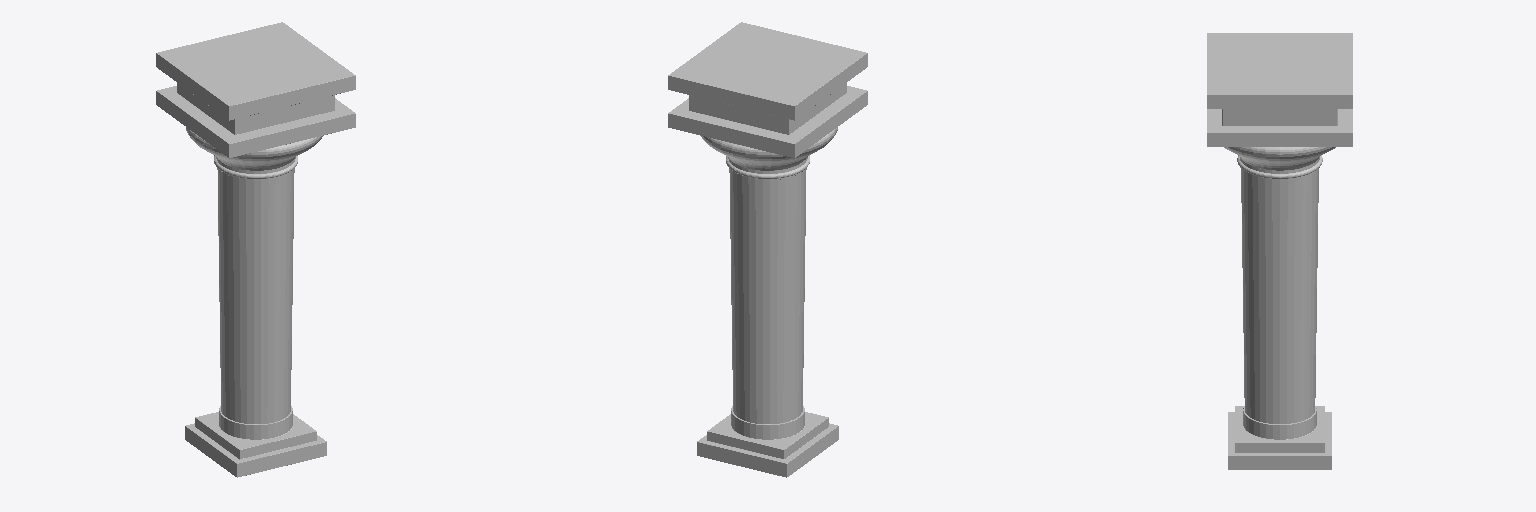
Rendered from MinoanColumnB_High.obj.
The picture shows the model from 3 angles: view 1: azimuth 30°, elevation 25°; view 2: azimuth 150°, elevation 25°; view 3: azimuth 270°, elevation 25°; orthographic projection.
Visible parts, largest first — view 1: column, abacus, plinth; view 2: column, abacus, plinth; view 3: column, abacus, plinth.
Part boxes in pixels (x1,y1,x2,y2): column: (186, 127, 323, 439); abacus: (156, 22, 355, 157); plinth: (185, 412, 326, 477); column: (700, 127, 837, 439); abacus: (668, 22, 867, 157); plinth: (697, 412, 838, 477); column: (1224, 147, 1335, 439); abacus: (1207, 33, 1352, 146); plinth: (1228, 406, 1331, 469).
Size of the model in its own units: 113 by 327 by 113.